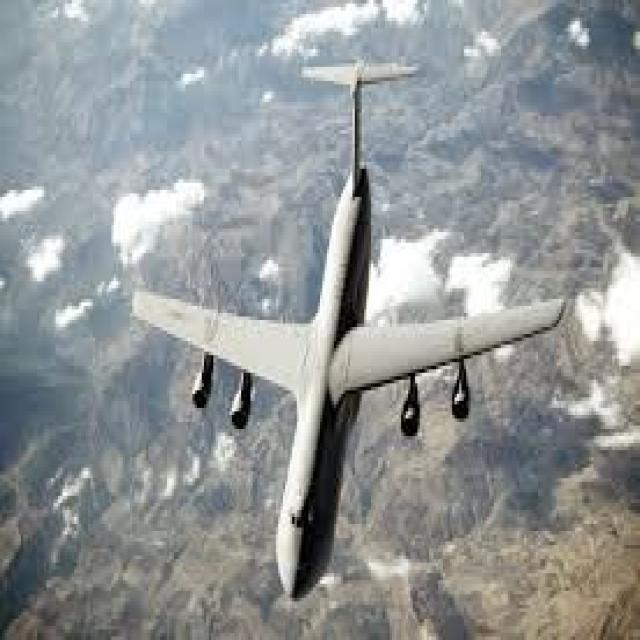C5: (91, 28, 604, 628)
